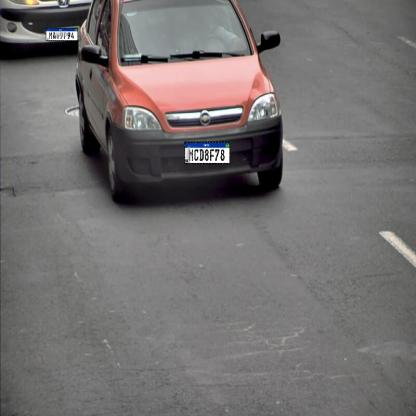PlacaM: (184, 142, 230, 165), (46, 28, 78, 41)
